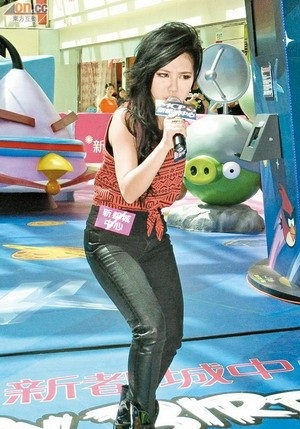face: (151, 51, 193, 111)
